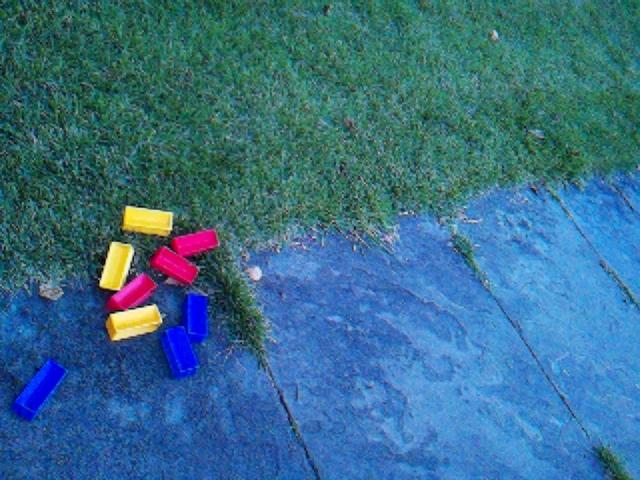blue: (12, 358, 68, 422), (161, 325, 200, 379), (183, 291, 211, 343)
red: (105, 273, 157, 313), (150, 245, 199, 286), (171, 228, 221, 258)
yellow: (105, 303, 163, 342), (99, 240, 135, 291), (121, 204, 175, 237)
